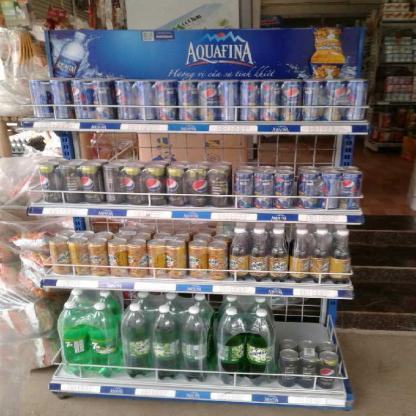7up-chai: (55, 303, 90, 377), (90, 302, 118, 377)
mirinda-sodakem-chai: (246, 309, 276, 385), (121, 304, 152, 376), (180, 306, 209, 381), (216, 308, 245, 381), (153, 304, 179, 378)
mirinda-xaxi: (124, 239, 148, 278), (207, 242, 229, 280), (187, 240, 207, 279), (68, 238, 88, 276), (107, 237, 126, 277), (166, 240, 186, 277), (87, 239, 106, 276), (148, 240, 167, 277), (50, 238, 68, 274)
mirinda-xaxi-chai: (288, 228, 310, 283), (310, 228, 331, 282), (267, 229, 288, 282), (332, 230, 351, 283), (230, 228, 248, 280), (250, 228, 267, 281)
pepsi-blue: (112, 80, 136, 120), (324, 80, 346, 121), (134, 81, 156, 120), (340, 172, 363, 209), (28, 80, 51, 116), (71, 79, 92, 118), (177, 81, 197, 121), (217, 81, 237, 121), (239, 81, 259, 121), (280, 81, 300, 121), (347, 81, 367, 120), (198, 80, 217, 121), (303, 80, 322, 121), (92, 81, 112, 119), (156, 81, 175, 121), (318, 173, 339, 209), (51, 81, 71, 118), (260, 80, 278, 121), (298, 173, 318, 208), (252, 174, 272, 208), (274, 174, 294, 208), (234, 174, 252, 207)
pepsi-chanhmuoi: (36, 164, 61, 204), (184, 167, 208, 206), (79, 165, 102, 202), (208, 167, 229, 207), (121, 166, 143, 204), (142, 167, 163, 205), (102, 165, 122, 204), (164, 167, 184, 205), (318, 351, 337, 389), (278, 351, 298, 387), (61, 165, 80, 202), (299, 353, 317, 389)
